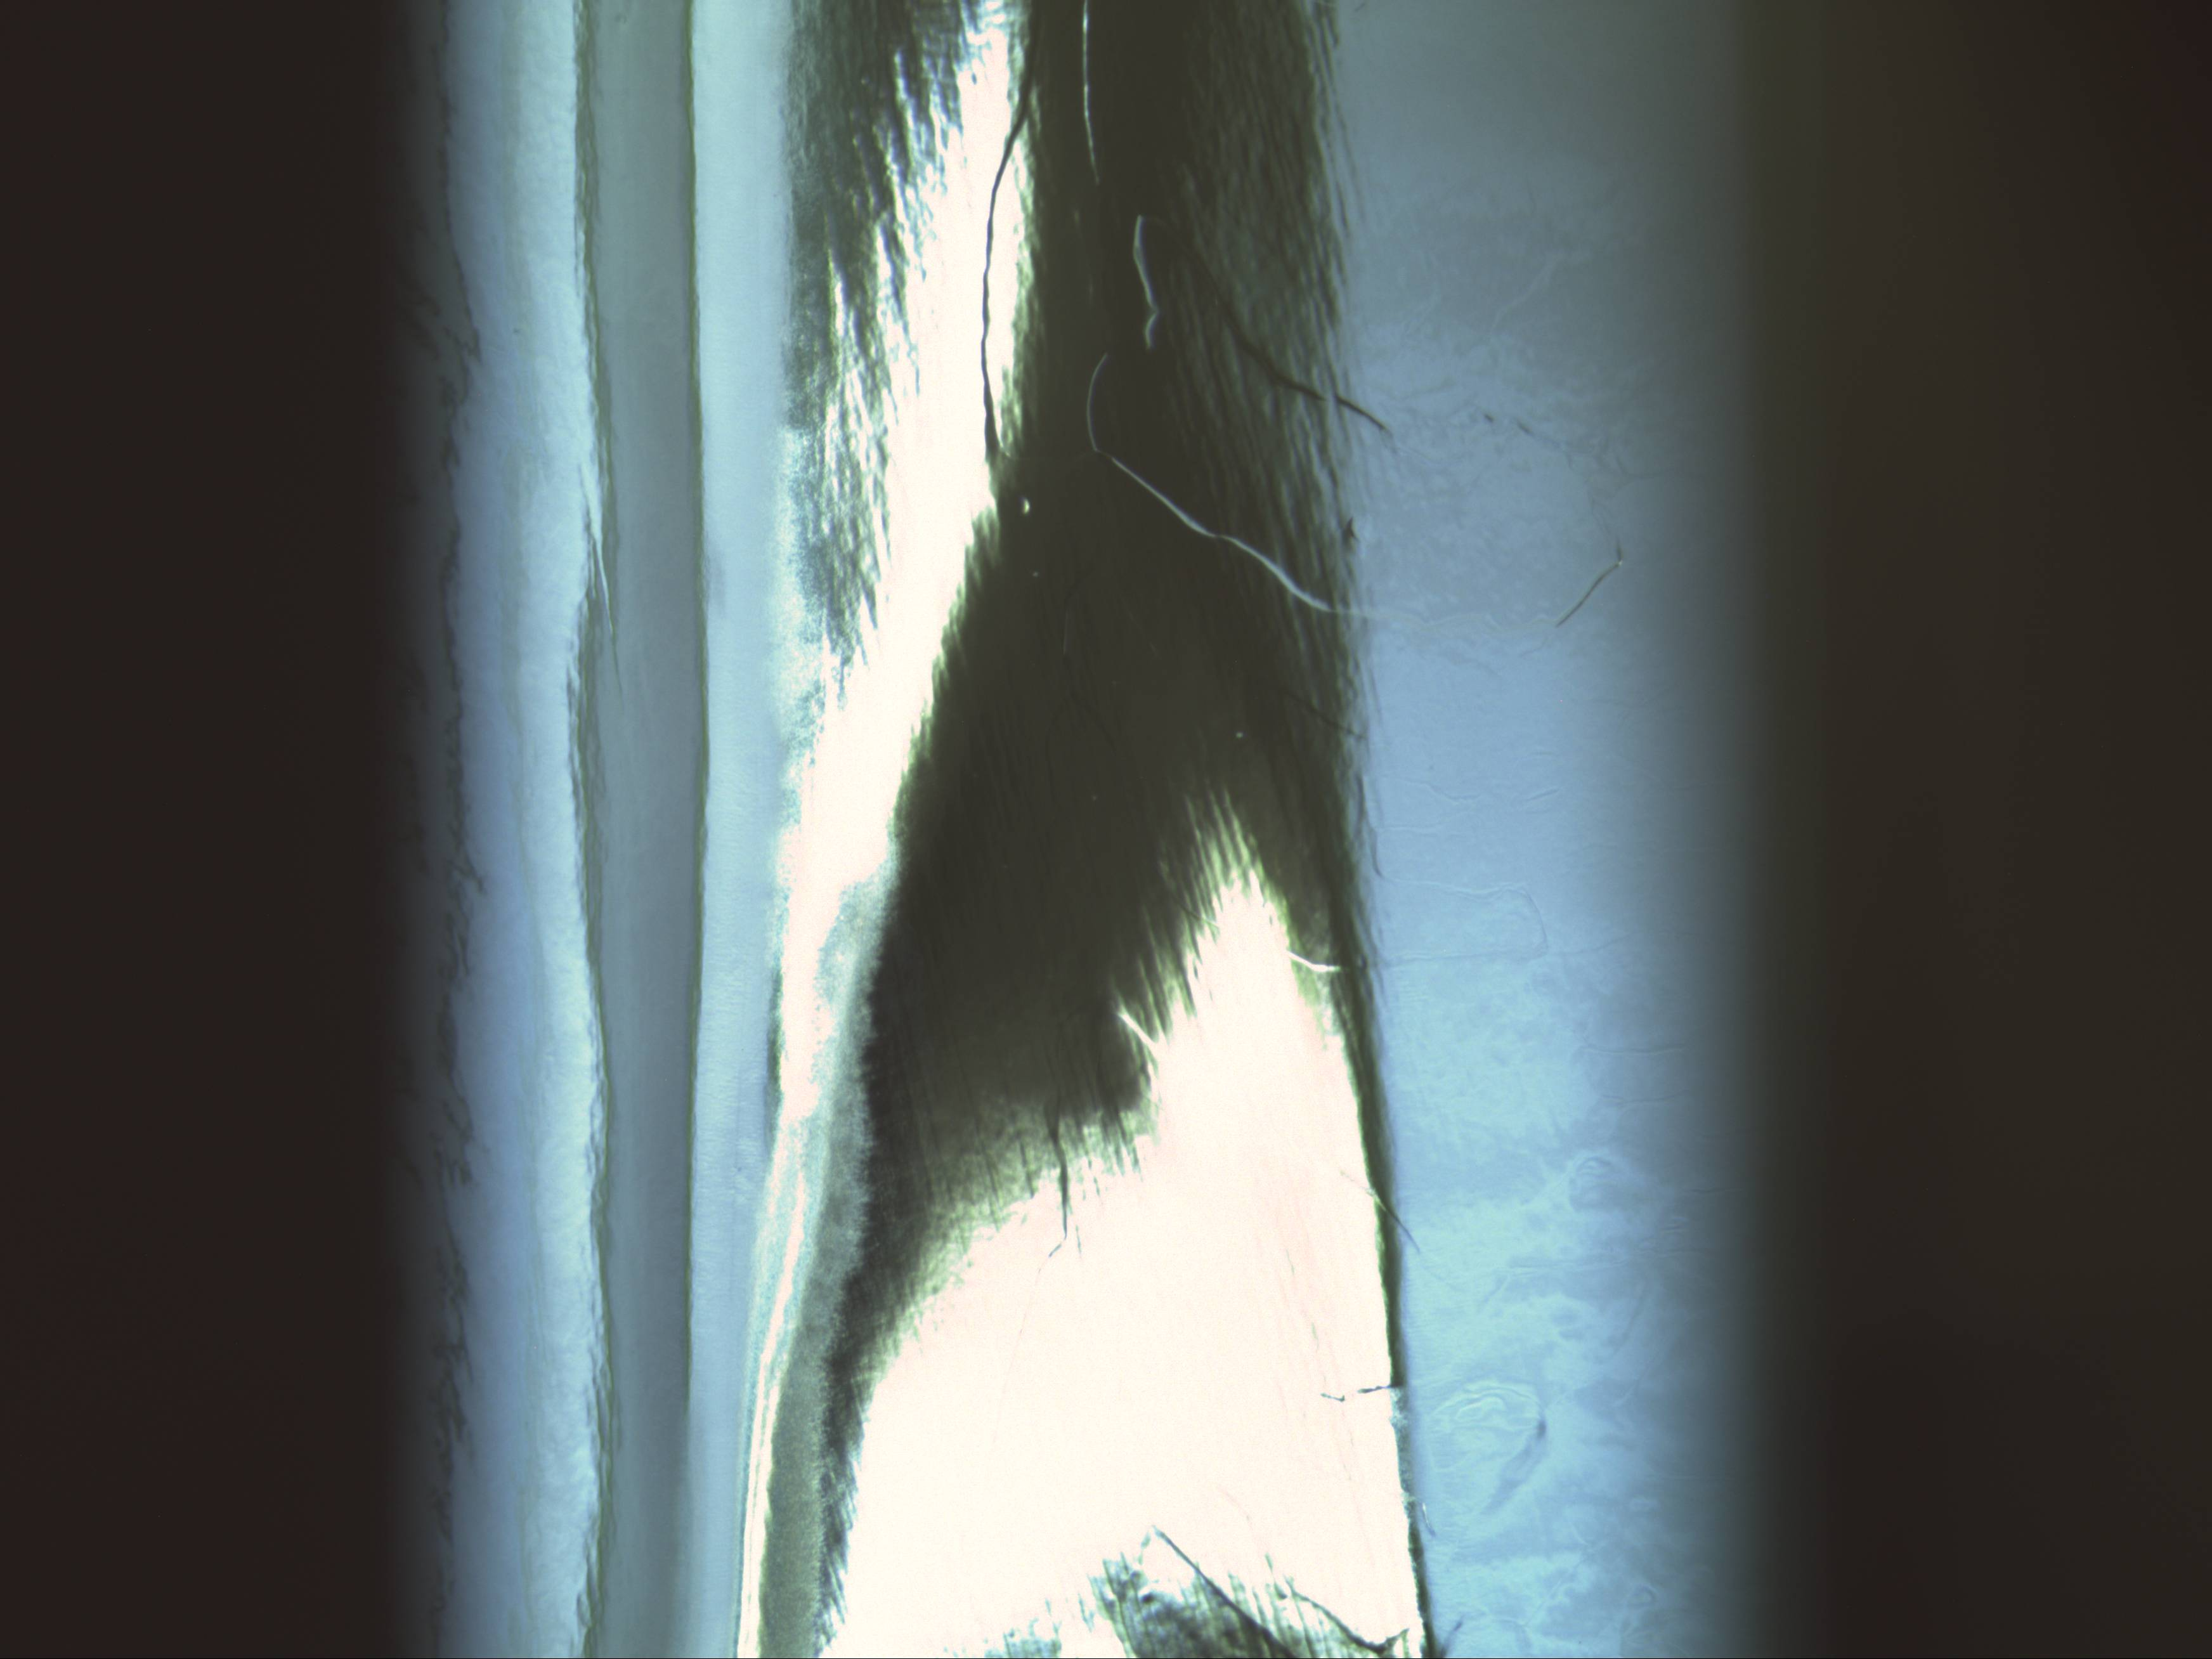defect: (1010, 493, 1038, 525)
